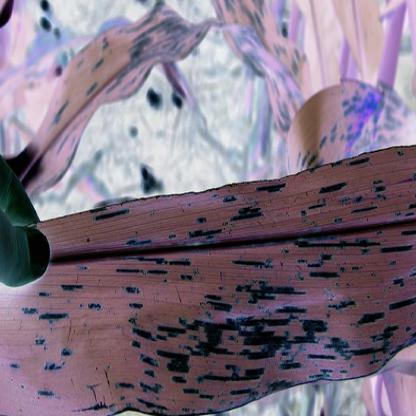Corn Gray leaf spot: (54, 134, 416, 414)
